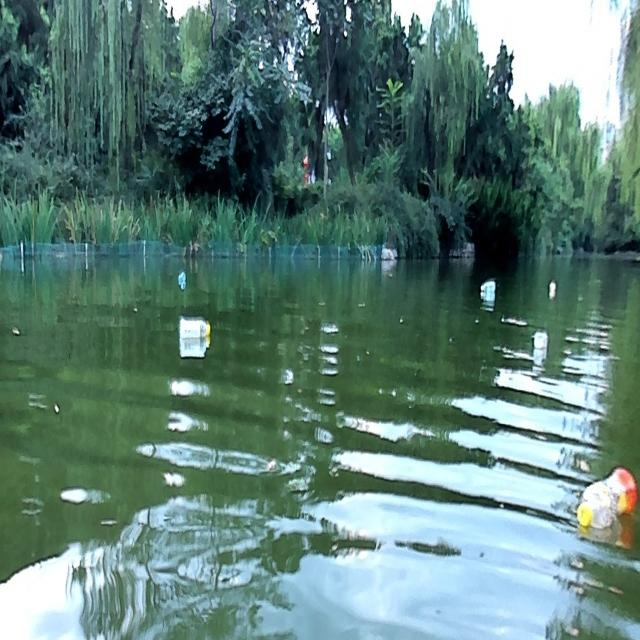bottle: (577, 466, 636, 529), (180, 317, 210, 340), (480, 278, 496, 295), (533, 329, 547, 347), (177, 270, 185, 284), (548, 280, 556, 293)
